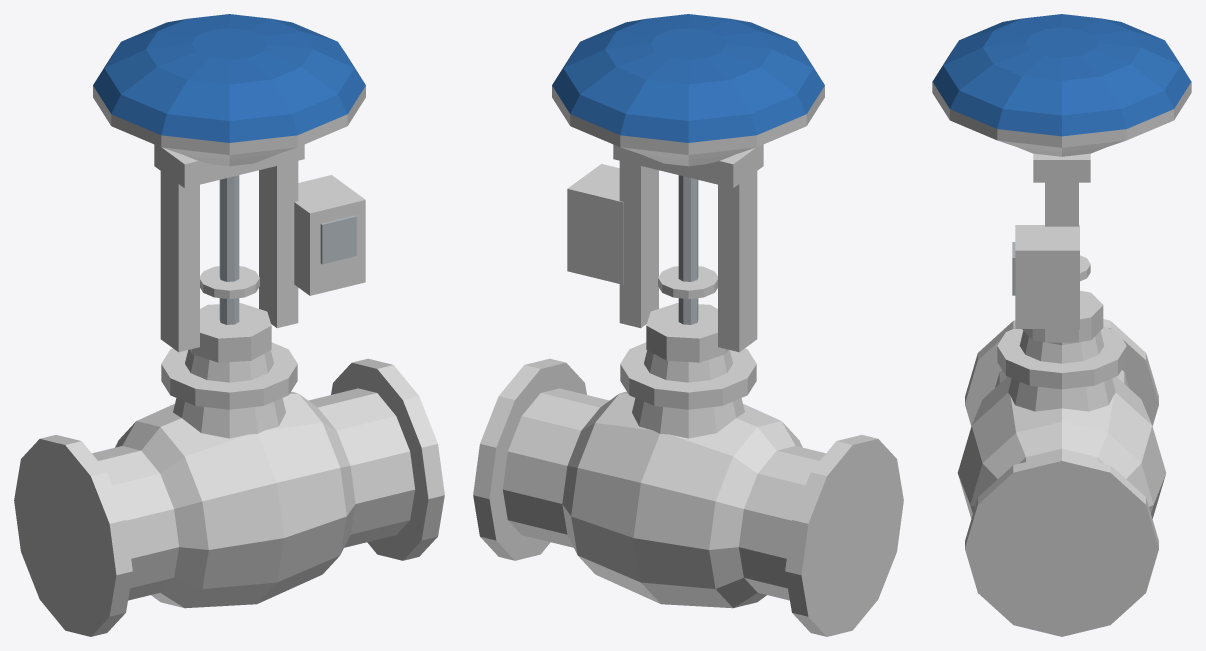
The model's file is valve-control.glb.
3 renders of one model, left to right at view 1: azimuth 30°, elevation 25°; view 2: azimuth 150°, elevation 25°; view 3: azimuth 270°, elevation 25°, orthographic. The views are drawn at different scales.
Parts seen in each view (by area): view 1: globe, actuator.cap, in.flange, out.stub, out.flange, in.stub, yoke.leg.0, positioner, yoke.leg.1, bonnet.flange, bonnet, actuator.lower (+5 smaller); view 2: globe, actuator.cap, in.flange, out.stub, out.flange, in.stub, yoke.leg.0, yoke.leg.1, positioner, bonnet.flange, bonnet, actuator.lower (+4 smaller); view 3: out.flange, actuator.cap, globe, positioner, bonnet.flange, bonnet, actuator.lower, in.flange, yoke.leg.1, yoke.bridge, packing, out.stub.
Part boxes in pixels (bbox=[...]): globe: bbox=[115, 391, 355, 608]; actuator.cap: bbox=[93, 14, 365, 142]; in.flange: bbox=[14, 435, 132, 636]; out.stub: bbox=[308, 388, 415, 547]; out.flange: bbox=[331, 358, 444, 560]; in.stub: bbox=[92, 446, 178, 600]; yoke.leg.0: bbox=[160, 157, 199, 352]; positioner: bbox=[294, 175, 365, 295]; yoke.leg.1: bbox=[259, 161, 298, 328]; bonnet.flange: bbox=[161, 342, 297, 409]; bonnet: bbox=[173, 349, 285, 438]; actuator.lower: bbox=[93, 86, 365, 166]; globe: bbox=[562, 391, 802, 608]; actuator.cap: bbox=[552, 14, 824, 142]; in.flange: bbox=[785, 435, 903, 636]; out.stub: bbox=[502, 388, 609, 547]; out.flange: bbox=[473, 358, 586, 560]; in.stub: bbox=[739, 446, 825, 600]; yoke.leg.0: bbox=[718, 160, 757, 352]; yoke.leg.1: bbox=[619, 161, 658, 328]; positioner: bbox=[567, 164, 623, 284]; bonnet.flange: bbox=[620, 342, 756, 409]; bonnet: bbox=[632, 349, 744, 438]; actuator.lower: bbox=[552, 86, 824, 166]; out.flange: bbox=[965, 453, 1158, 636]; actuator.cap: bbox=[932, 14, 1191, 136]; globe: bbox=[957, 377, 1166, 518]; positioner: bbox=[1015, 225, 1079, 328]; bonnet.flange: bbox=[997, 326, 1126, 389]; bonnet: bbox=[1008, 331, 1115, 411]; actuator.lower: bbox=[932, 82, 1191, 156]; in.flange: bbox=[965, 319, 1158, 425]; yoke.leg.1: bbox=[1045, 170, 1078, 342]; yoke.bridge: bbox=[1033, 153, 1090, 182]; packing: bbox=[1022, 290, 1103, 345]; out.stub: bbox=[1019, 448, 1104, 463].
Size of the model in its own units: 1 by 1.61 by 0.72.
